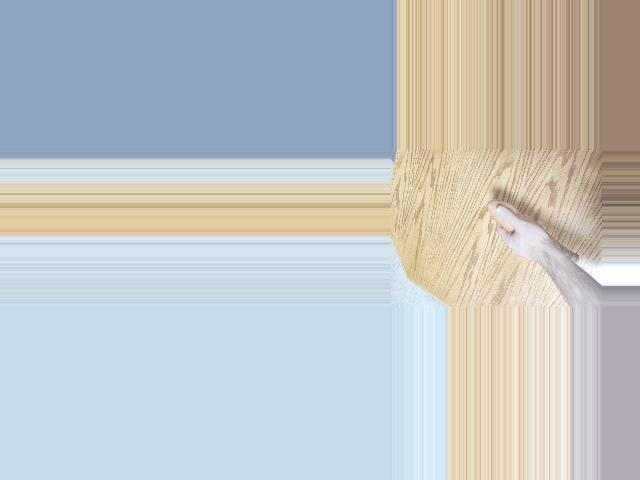sweet_potato: (485, 197, 580, 261)
